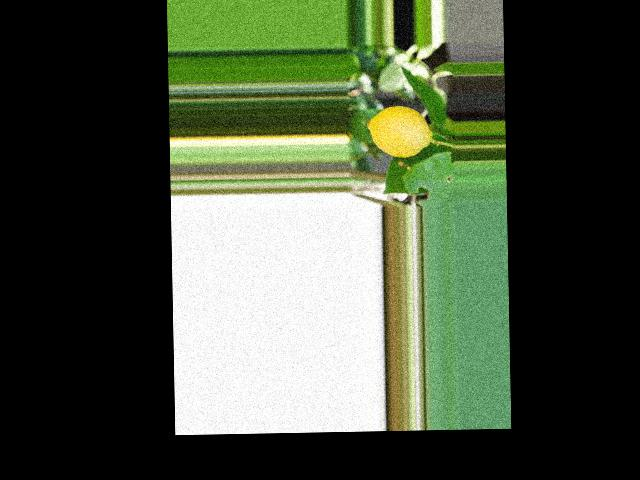lemon: (358, 92, 437, 159)
